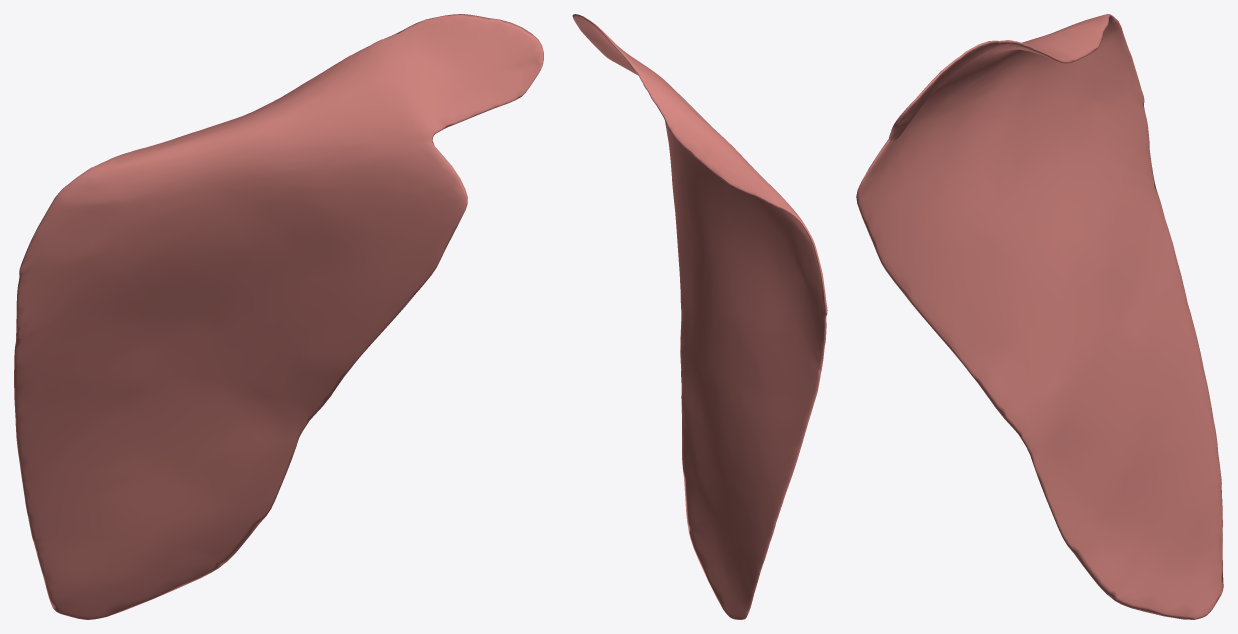
3 renders of one model, left to right at view 1: azimuth 30°, elevation 25°; view 2: azimuth 150°, elevation 25°; view 3: azimuth 270°, elevation 25°, orthographic. The views are drawn at different scales.
Parts seen in each view (by area): view 1: ZA_236ef1c8bb8f8ba5; view 2: ZA_236ef1c8bb8f8ba5; view 3: ZA_236ef1c8bb8f8ba5.
Part boxes in pixels (x1,y1,x2,y2): ZA_236ef1c8bb8f8ba5: (14,14,543,619); ZA_236ef1c8bb8f8ba5: (572,14,827,619); ZA_236ef1c8bb8f8ba5: (856,14,1223,619).
Size of the model in its own units: 0.0765 by 0.1059 by 0.0488.
